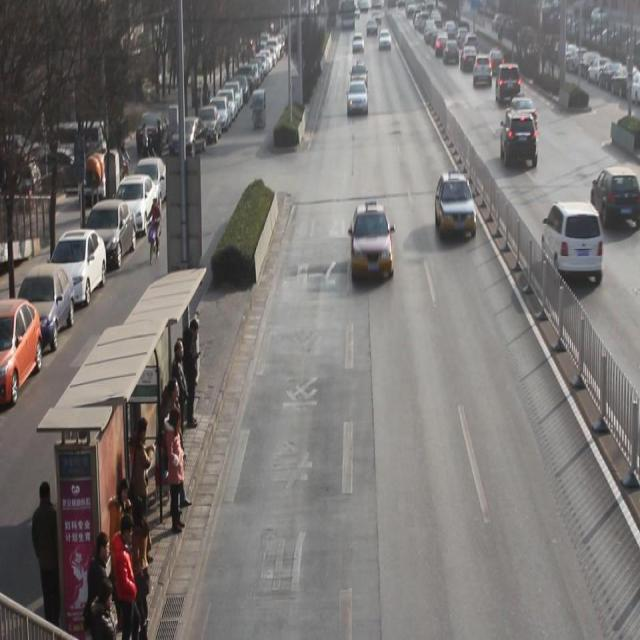car: (542, 200, 602, 284), (352, 200, 393, 284), (436, 174, 477, 240), (592, 168, 640, 223), (501, 112, 538, 170), (496, 62, 522, 101), (509, 92, 537, 126), (473, 54, 493, 89), (349, 81, 368, 116), (461, 48, 477, 71), (444, 40, 459, 63), (352, 62, 367, 83), (543, 34, 556, 58), (491, 50, 504, 72), (379, 28, 391, 50), (435, 35, 447, 56), (353, 34, 364, 54)
